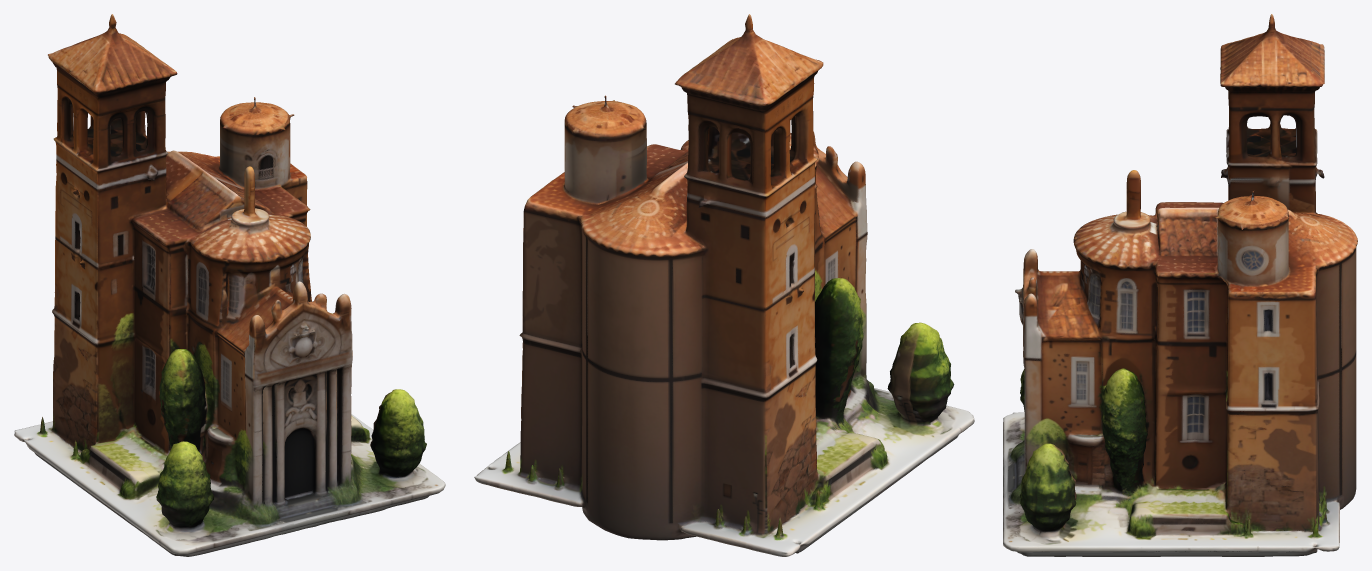
File: old_house_1_lev2.glb
3 views of the same model, side by side, from view 1: azimuth 30°, elevation 25°; view 2: azimuth 150°, elevation 25°; view 3: azimuth 270°, elevation 25° (orthographic). The views are drawn at different scales.
Parts seen in each view (by area): view 1: model_0; view 2: model_0; view 3: model_0.
Boxes of the visible parts, x1,y1,x2,y2 form: model_0: [14, 14, 445, 556]; model_0: [474, 14, 974, 556]; model_0: [1003, 14, 1357, 556].
Bounding box in the file's own units: 38.73 × 59.27 × 42.84.
Materials: 1 (1 with a texture image).
